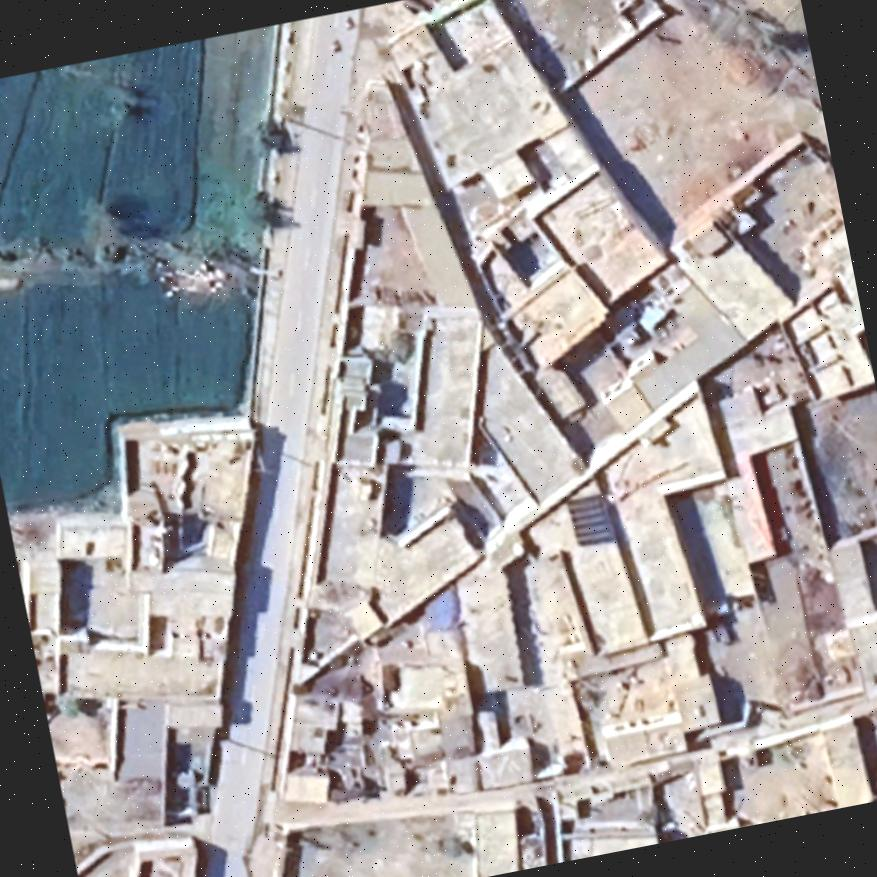Solarpanel: (561, 486, 621, 551)
